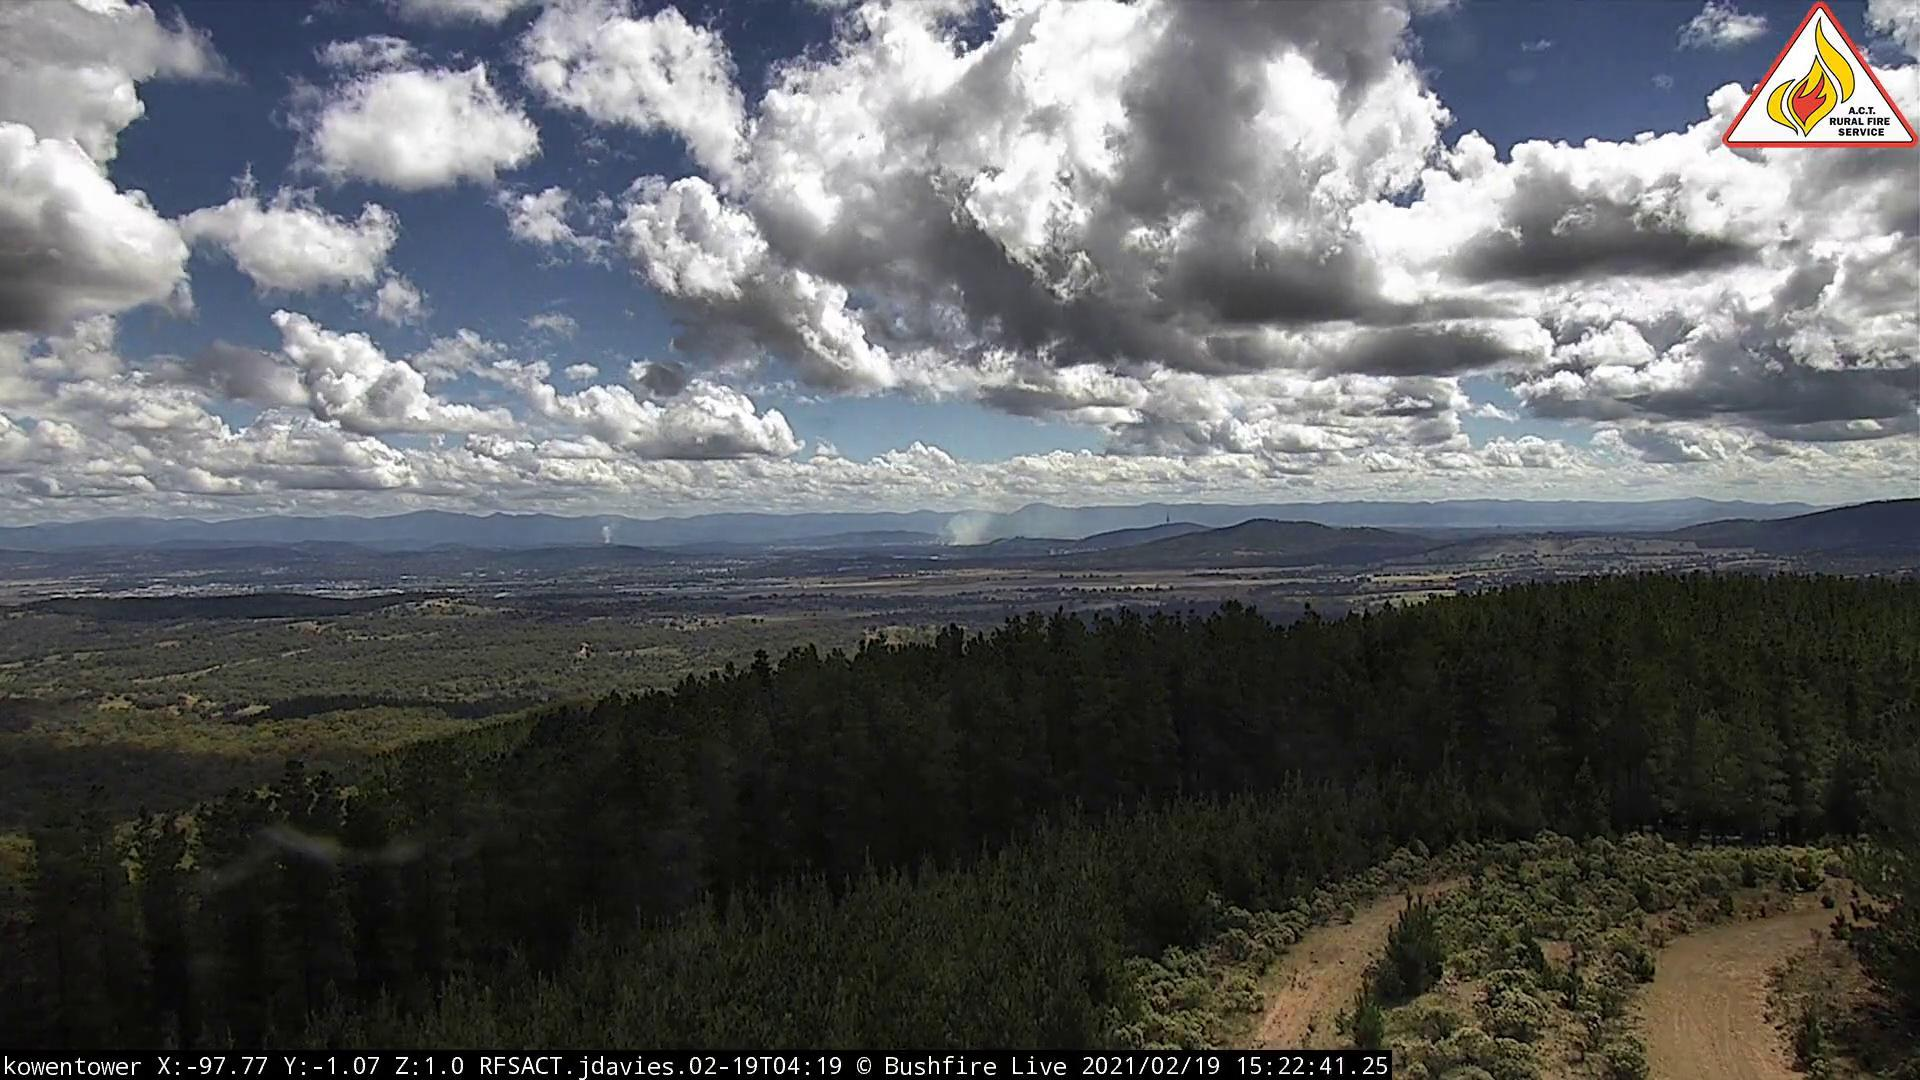instance_salient_object: (934, 498, 1022, 553), (603, 524, 625, 553)
